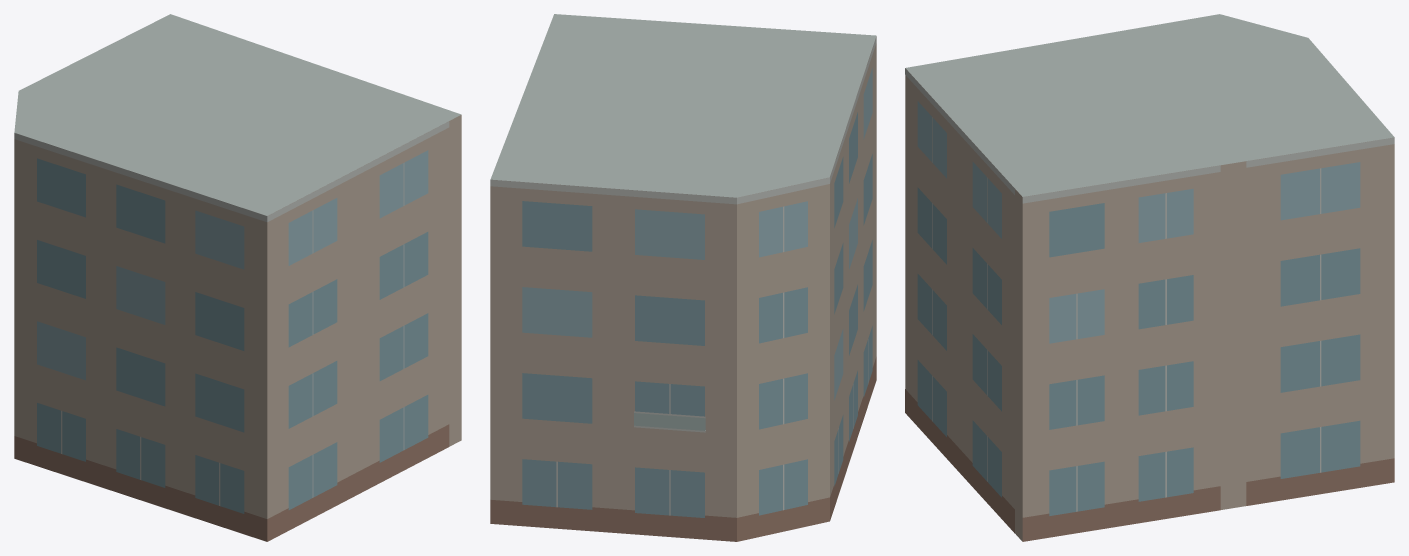
The model's file is survey-upis-32906448.glb.
3 views of the same model, side by side, from view 1: azimuth 30°, elevation 25°; view 2: azimuth 150°, elevation 25°; view 3: azimuth 270°, elevation 25° (orthographic). The views are drawn at different scales.
Parts seen in each view (by area): view 1: survey-upis-32906448.tmp; view 2: survey-upis-32906448.tmp; view 3: survey-upis-32906448.tmp.
Boxes of the visible parts, left/top/right/bottom form: survey-upis-32906448.tmp: left=14, top=14, right=461, bottom=541; survey-upis-32906448.tmp: left=490, top=14, right=876, bottom=541; survey-upis-32906448.tmp: left=905, top=14, right=1394, bottom=541.
Bounding box in the file's own units: 14.34 × 12.6 × 16.22.
